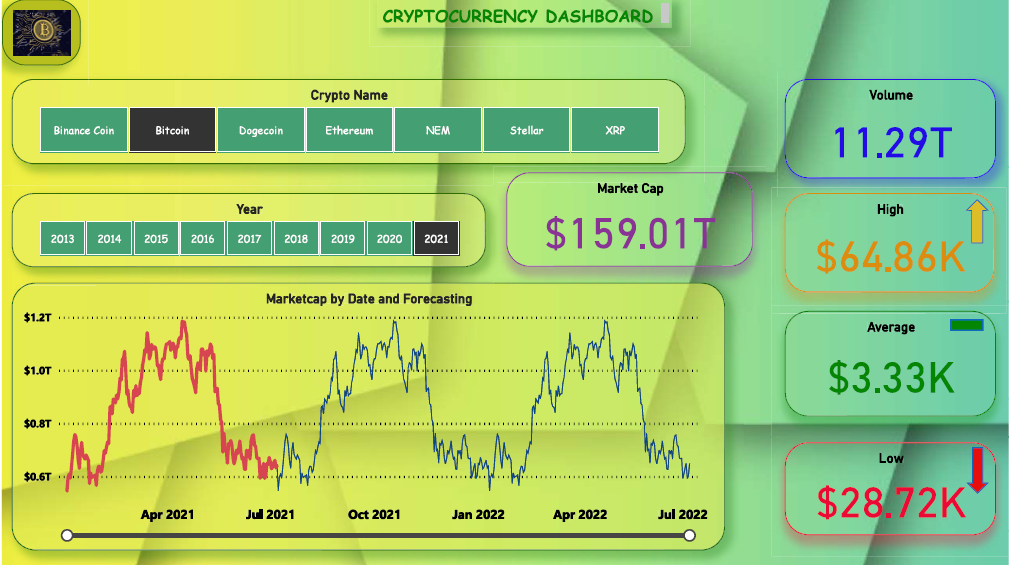

The page's visual inventory and layout, read from the dashboard file:
{"tool":"powerbi","page":{"name":"Page 1","canvas":[1280,720],"ordinal":0},"visuals":[{"type":"slicer","title":"Year","fields":{"Values":["Crypto_data.Year"]},"box":[12.5,246.3,601.8,93.5],"z":0},{"type":"slicer","title":"Crypto Name","fields":{"Values":["Crypto_data.Name"]},"box":[12.5,101.3,855.9,107.6],"z":1000},{"type":"lineChart","title":"Marketcap by Date and Forecasting","fields":{"Y":["Sum(Crypto_data.Marketcap)"],"Category":["Crypto_data.Date"]},"box":[12.5,360.1,905.8,339.9],"z":2000},{"type":"image","box":[0,0,99.8,84.2],"z":3000},{"type":"textbox","box":[477.1,0,374.2,35.9],"z":4000},{"type":"card","title":"Low","fields":{"Values":["Min(Crypto_data.Low)"]},"box":[994.7,562.8,268.2,118.5],"z":5000},{"type":"card","title":"Market Cap","fields":{"Values":["Sum(Crypto_data.Marketcap)"]},"box":[640.8,219.8,313.4,120],"z":6000},{"type":"card","title":"Average","fields":{"Values":["Avg(Crypto_data.Average)"]},"box":[994.7,396,268.2,134.1],"z":7000},{"type":"card","title":"Volume","fields":{"Values":["Sum(Crypto_data.Volume)"]},"box":[994.7,101.3,268.2,126.3],"z":8000},{"type":"card","title":"High","fields":{"Values":["Max(Crypto_data.High)"]},"box":[994.7,246.3,266.1,126.3],"z":9000},{"type":"shape","box":[1226,568.5,28.1,59.2],"z":10000},{"type":"shape","box":[1223.9,254.1,29.6,56.1],"z":11000},{"type":"shape","box":[1205.2,406.9,40.5,14],"z":12000}]}

Visuals, with their boxes in screenshot pixels (x1, y1, x2, y2), scaled from the page's 1280x720 canvas onto the 1009x565 screenshot:
"Year" slicer: Rect(10, 193, 484, 267)
"Crypto Name" slicer: Rect(10, 79, 685, 164)
"Marketcap by Date and Forecasting" lineChart: Rect(10, 283, 724, 549)
image: Rect(0, 0, 79, 66)
textbox: Rect(376, 0, 671, 28)
"Low" card: Rect(784, 442, 996, 535)
"Market Cap" card: Rect(505, 172, 752, 267)
"Average" card: Rect(784, 311, 996, 416)
"Volume" card: Rect(784, 79, 996, 179)
"High" card: Rect(784, 193, 994, 292)
shape: Rect(966, 446, 989, 493)
shape: Rect(965, 199, 988, 243)
shape: Rect(950, 319, 982, 330)
